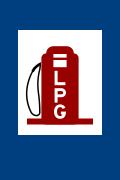Petrol Pump- Gas Station: (10, 25, 108, 142)
